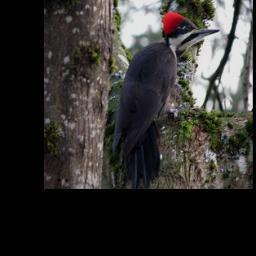Woodpecker: (107, 9, 222, 183)
